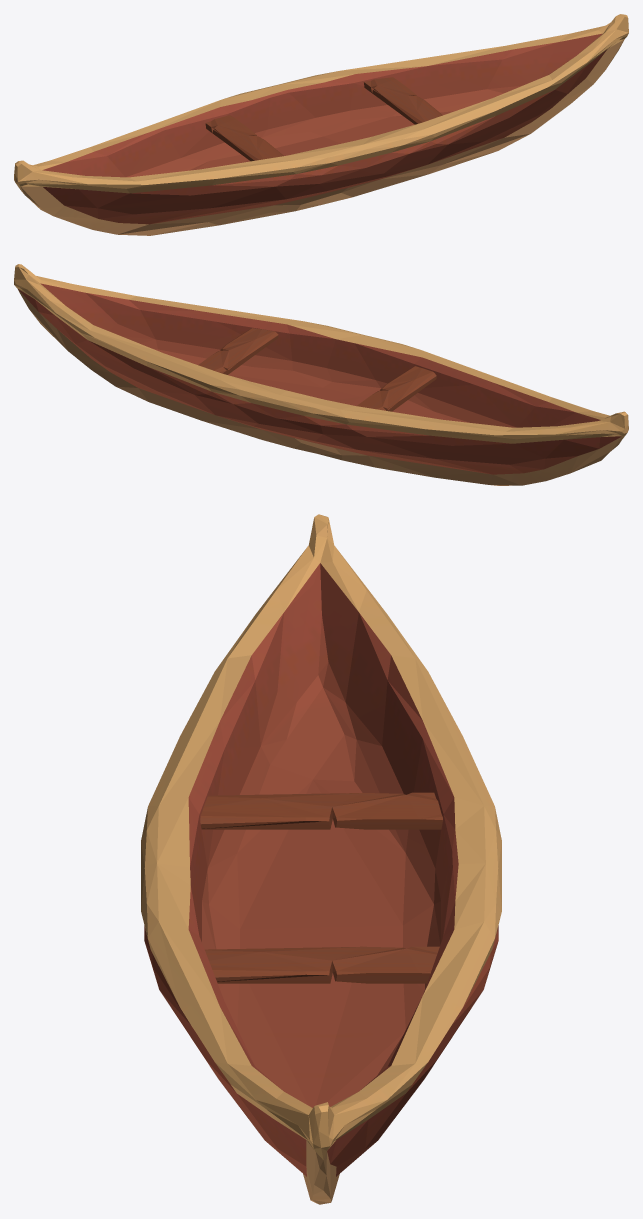
3 renders of one model, top to bottom at view 1: azimuth 30°, elevation 25°; view 2: azimuth 150°, elevation 25°; view 3: azimuth 270°, elevation 25°, orthographic. The views are drawn at different scales.
Visible parts, largest first — view 1: Boat1; view 2: Boat1; view 3: Boat1.
Part boxes in pixels (box(x1,y1,x2,y2)): Boat1: box(14, 14, 628, 235); Boat1: box(14, 264, 628, 485); Boat1: box(141, 514, 501, 1204).
Size of the model in its own units: 350 by 62.57 by 89.23.
Materials: 1 (1 with a texture image).
